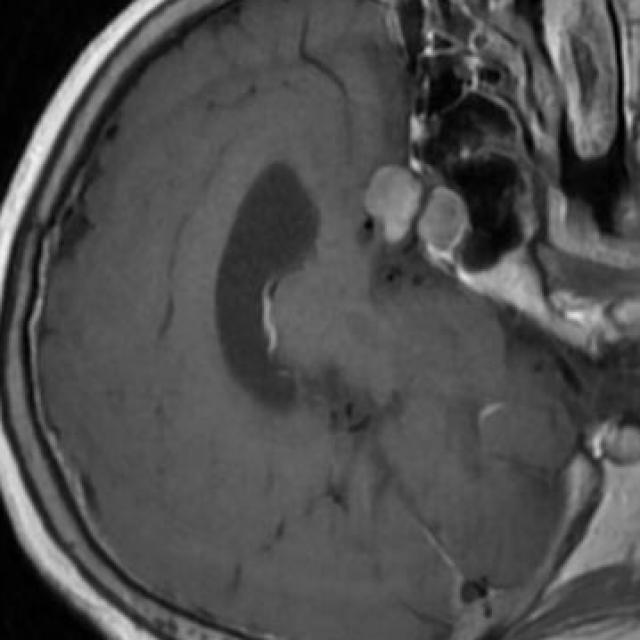pituitary: (364, 166, 467, 258)
